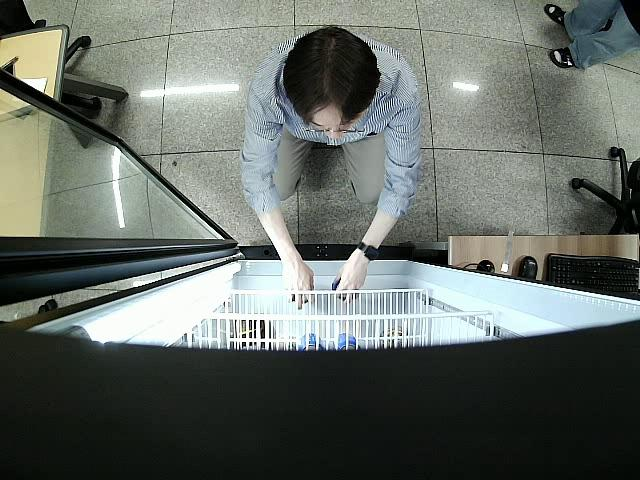00_hand: (280, 263, 319, 309), (332, 253, 370, 299)
